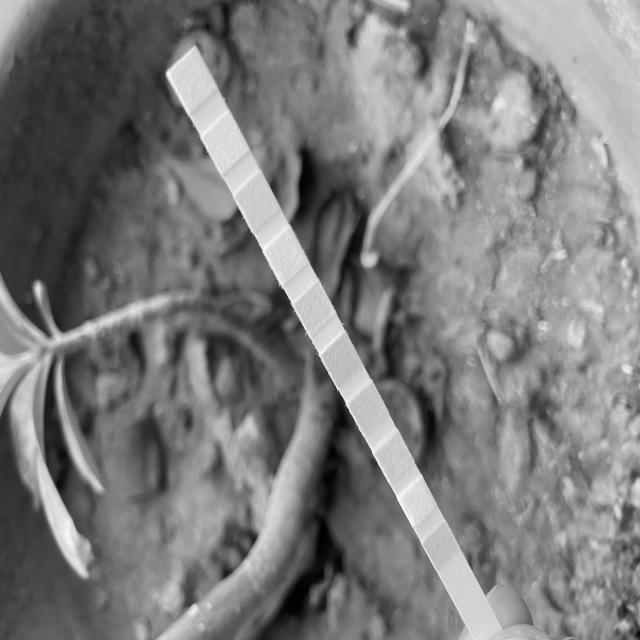Bilirubin: (409, 486, 426, 518)
Blood: (332, 342, 351, 377)
Glucose: (434, 530, 449, 561)
Ketone: (385, 441, 402, 473)
Leukocytes: (182, 61, 204, 98)
Nitrite: (212, 123, 237, 160)
Protein: (275, 238, 297, 273)
SpGravity: (358, 392, 378, 425)
Urobilinogen: (246, 182, 268, 219)
background: (0, 0, 640, 640)
pH: (304, 292, 325, 326)
strip: (166, 47, 502, 640)
